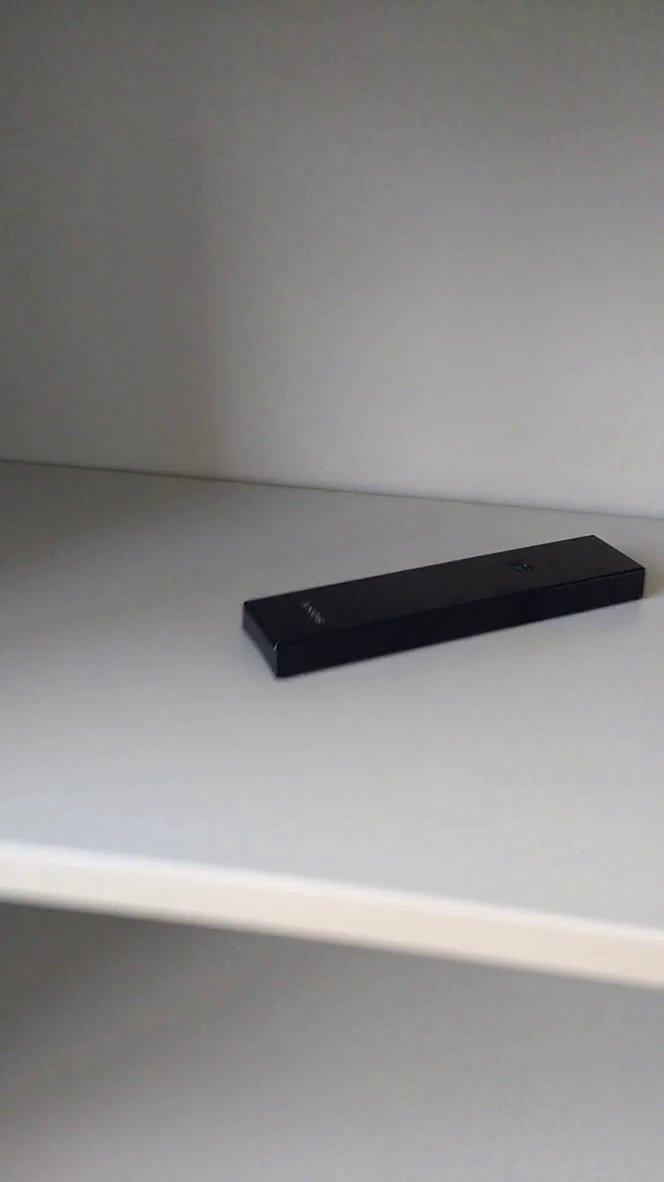remote: (234, 518, 653, 694)
